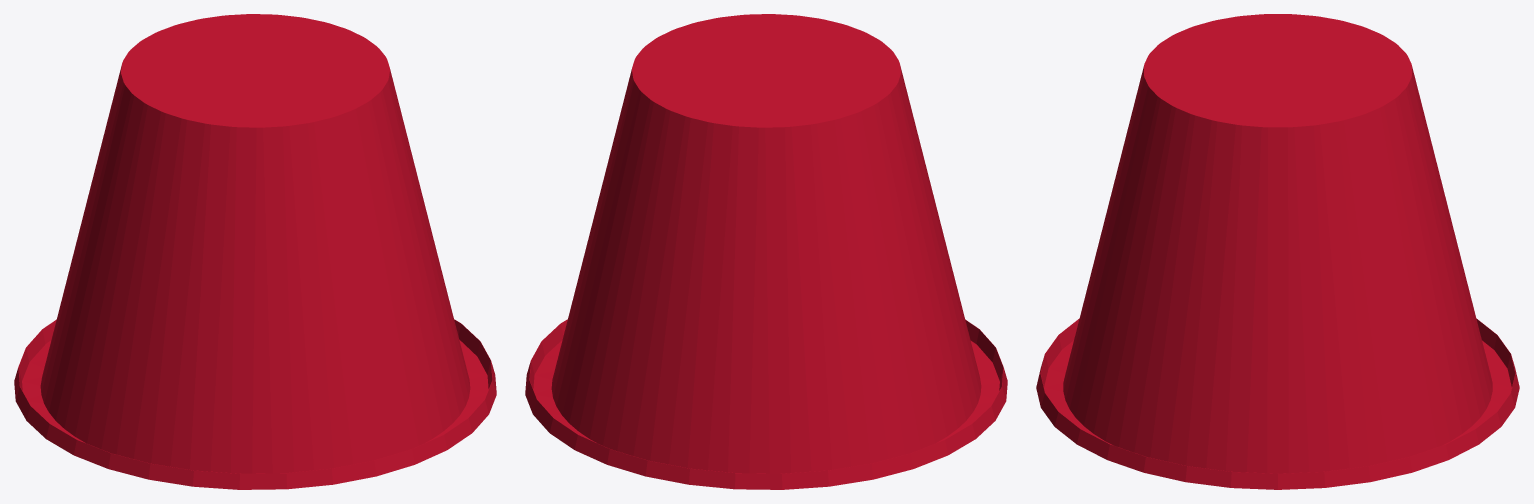
The picture shows the model from 3 angles, left to right: view 1: azimuth 30°, elevation 25°; view 2: azimuth 150°, elevation 25°; view 3: azimuth 270°, elevation 25°; orthographic projection.
Visible parts, largest first — view 1: Cylinder; view 2: Cylinder; view 3: Cylinder.
Boxes of the visible parts, x1,y1,x2,y2 form: Cylinder: (14, 14, 496, 489); Cylinder: (525, 14, 1007, 489); Cylinder: (1036, 14, 1519, 489).
Bounding box in the file's own units: 116 × 84.11 × 116.
